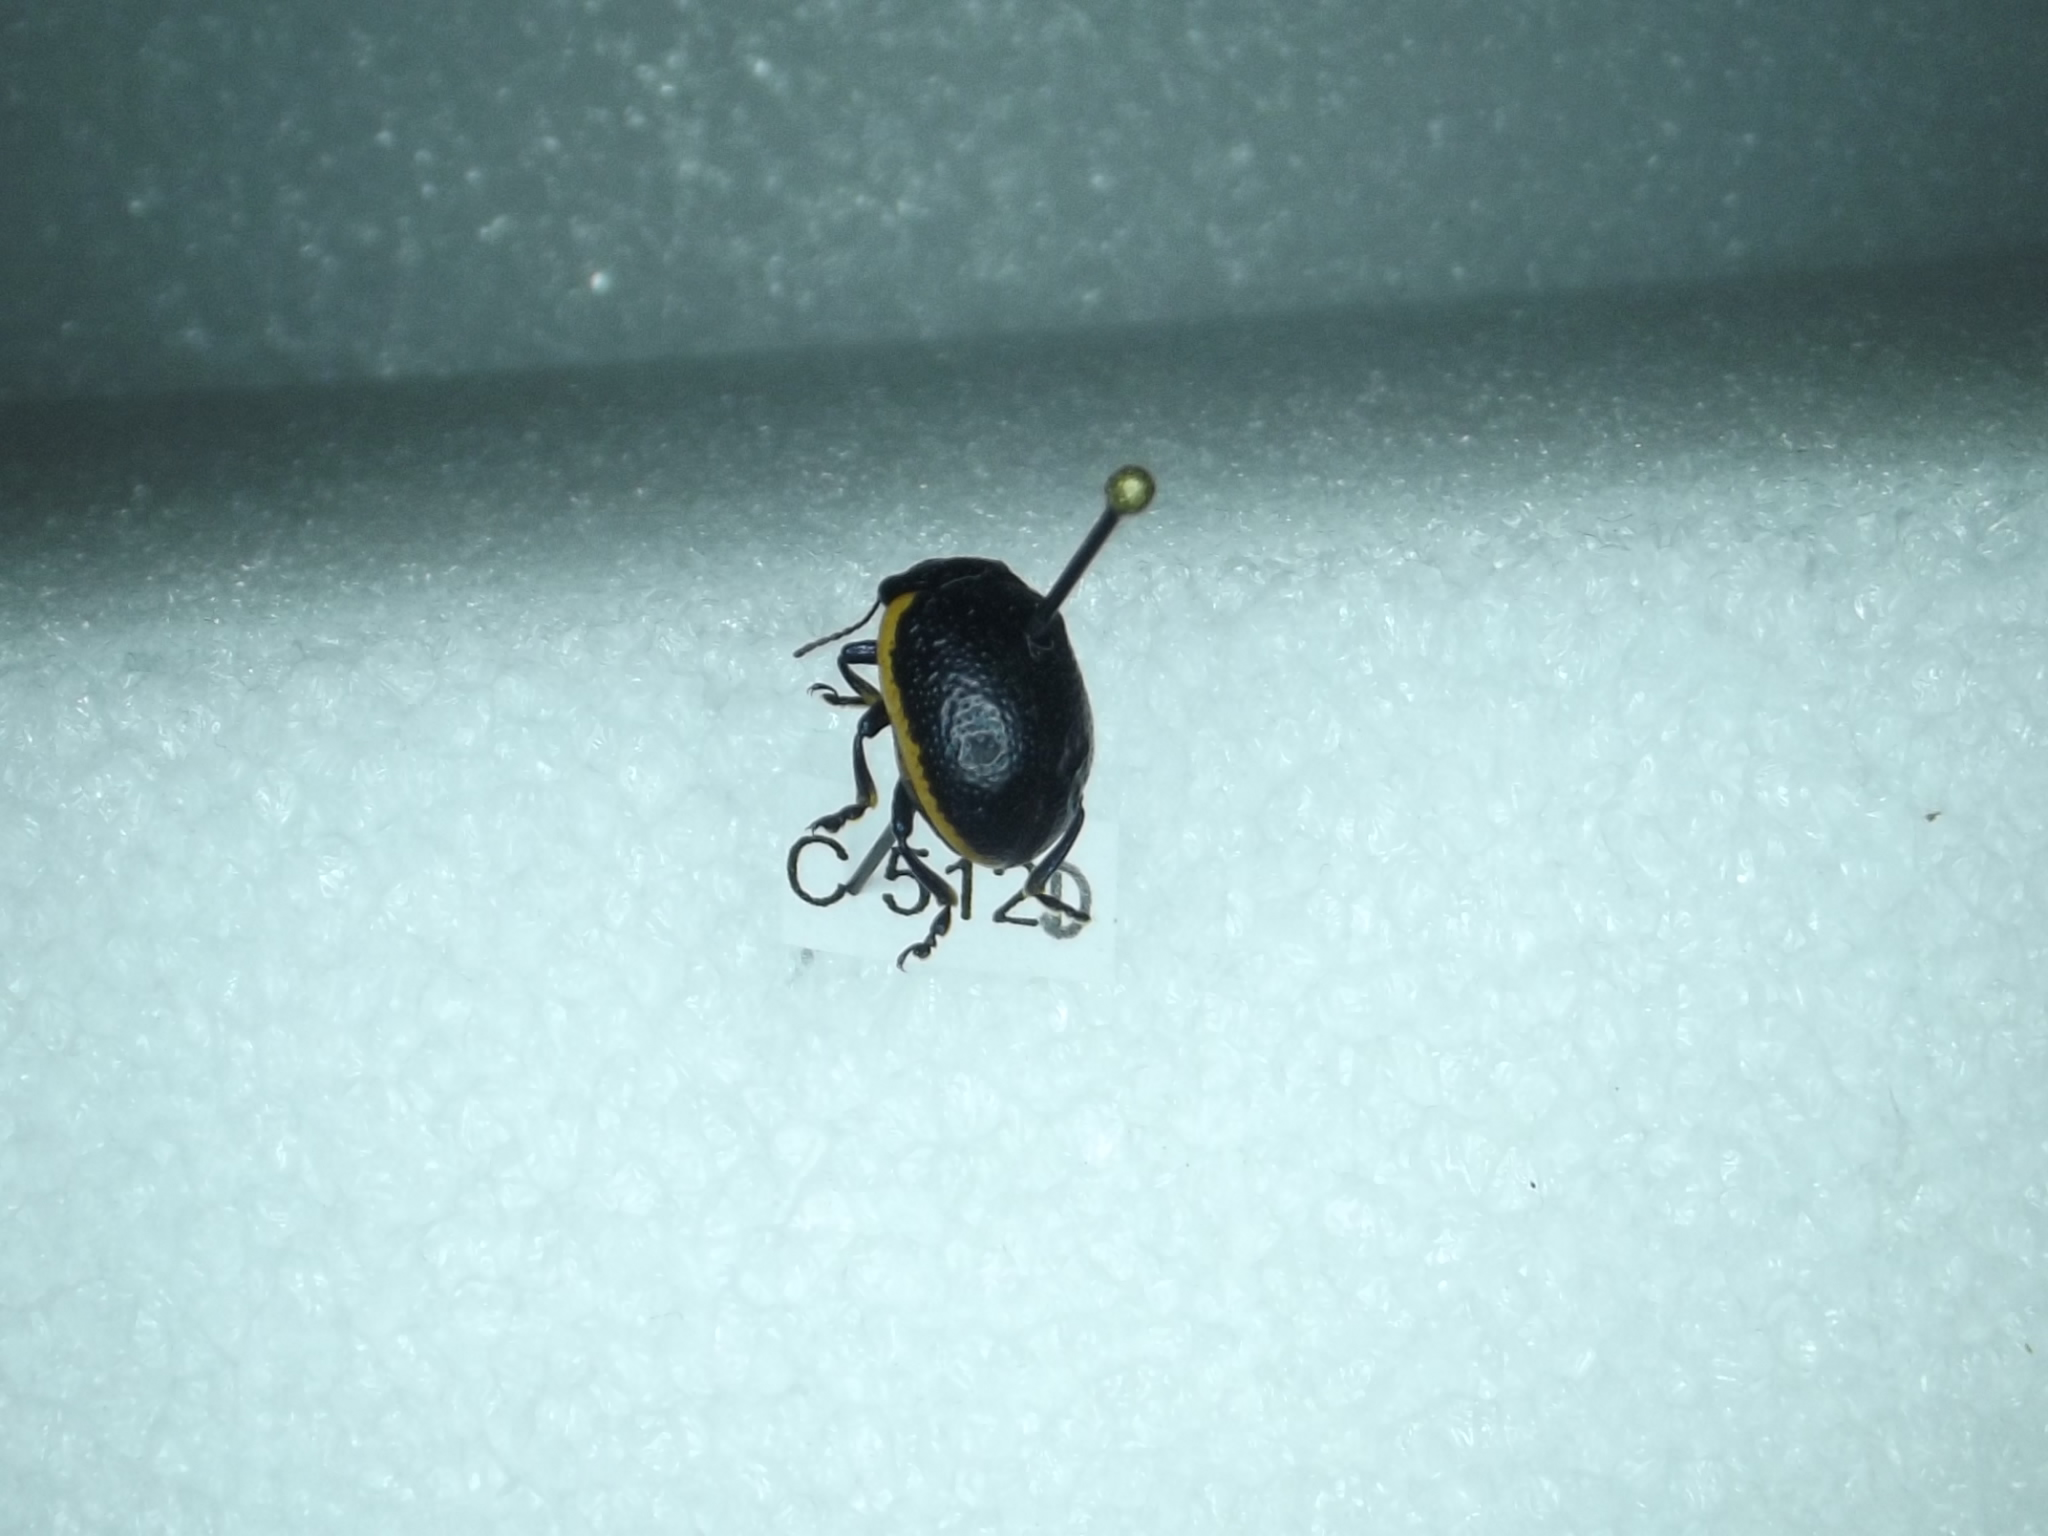Chrysolina_gypsophila: (782, 552, 1103, 975)
